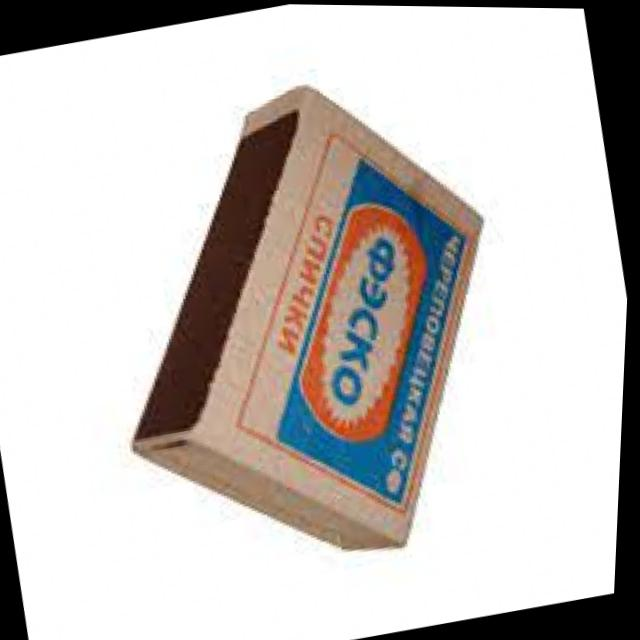match: (63, 46, 557, 599)
